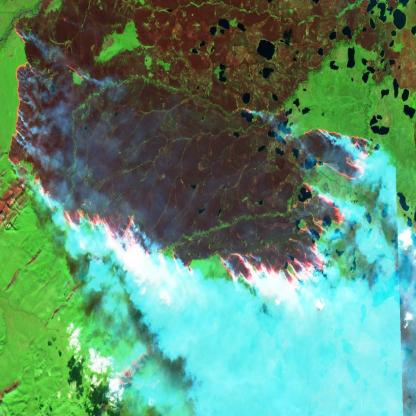fire: (0, 0, 383, 316)
